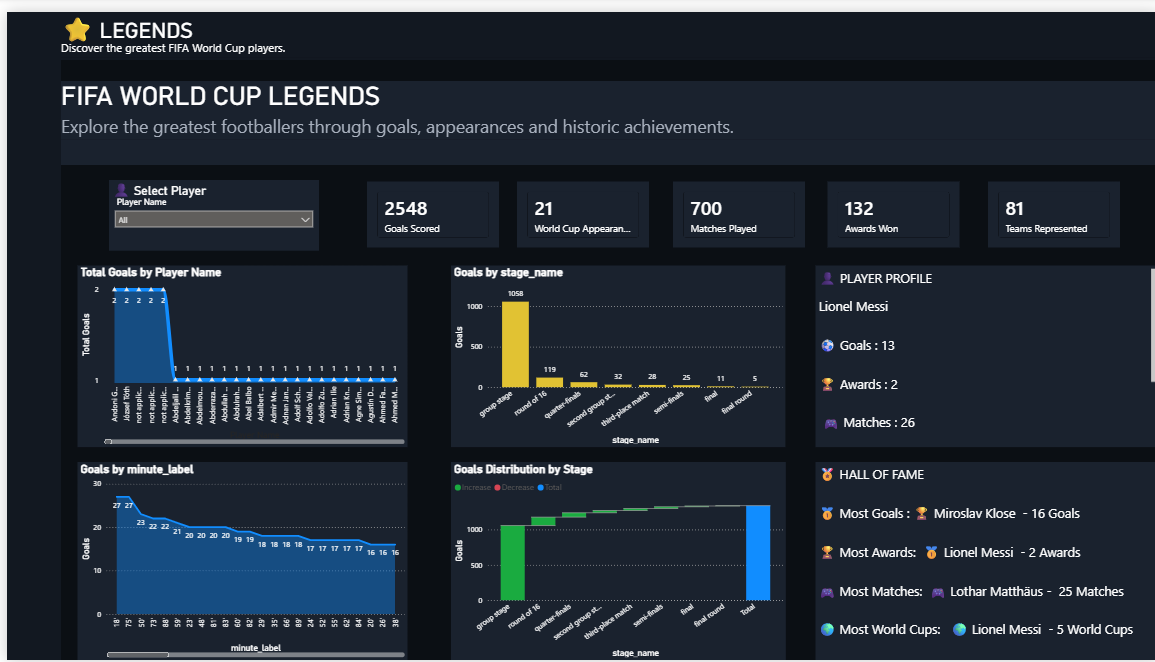

This screenshot's page, from the dashboard's own definition file:
{"tool":"powerbi","page":{"name":"LEGENDS","canvas":[1920,1080],"ordinal":3},"visuals":[{"type":"shape","box":[0,0,90,1080],"z":0},{"type":"shape","title":"⭐ LEGENDS","box":[90,0,1830,80],"z":1000},{"type":"shape","title":"FIFA WORLD CUP LEGENDS","box":[90,115,1830,140],"z":2000},{"type":"shape","box":[170,287.5,350,110],"z":3000},{"type":"slicer","title":"👤 Select Player","fields":{"Values":["Dim_players.Player Name"]},"box":[170,280,350,117.5],"z":4000},{"type":"cardVisual","fields":{"Data":["measures (2).World Cup Appearances"]},"box":[850,282.5,220,110],"z":5000},{"type":"cardVisual","fields":{"Data":["measures (2).Matches Played"]},"box":[1110,282.5,220,110],"z":6000},{"type":"cardVisual","fields":{"Data":["measures (2).Awards Won"]},"box":[1367.5,282.5,220,110],"z":7000},{"type":"cardVisual","fields":{"Data":["measures (2).Teams Represented"]},"box":[1635,282.5,220,110],"z":8000},{"type":"cardVisual","fields":{"Data":["measures (2).Goals Scored"]},"box":[600,282.5,220,110],"z":9000},{"type":"textbox","box":[1347.5,422.5,572.5,302.5],"z":10000},{"type":"textbox","box":[1347.5,750,572.5,330],"z":11000},{"type":"lineChart","fields":{"Y":["measures (2).Total Goals"],"Category":["Dim_players.Player Name"]},"box":[117.5,422.5,550,302.5],"z":12000},{"type":"columnChart","fields":{"Y":["measures (2).Goals"],"Category":["Fact_goals.stage_name"]},"box":[740,422.5,557.5,302.5],"z":13000},{"type":"areaChart","fields":{"Category":["Fact_goals.minute_label"],"Y":["measures (2).Goals"]},"box":[117.5,750,550,330],"z":14000},{"type":"waterfallChart","title":"Goals Distribution by Stage","fields":{"Category":["Fact_goals.stage_name"],"Y":["measures (2).Goals"]},"box":[740,750,558,330],"z":15000}]}

Visuals, with their boxes in screenshot pixels (x1, y1, x2, y2), scaled from the page's 1920x1080 canvas onto the 1155x662 screenshot:
shape: pyautogui.locateOnScreen(0, 0, 54, 661)
"⭐ LEGENDS" shape: pyautogui.locateOnScreen(54, 0, 1154, 49)
"FIFA WORLD CUP LEGENDS" shape: pyautogui.locateOnScreen(54, 70, 1154, 156)
shape: pyautogui.locateOnScreen(102, 176, 313, 244)
"👤 Select Player" slicer: pyautogui.locateOnScreen(102, 172, 313, 244)
cardVisual - measures (2).World Cup Appearances: pyautogui.locateOnScreen(511, 173, 644, 241)
cardVisual - measures (2).Matches Played: pyautogui.locateOnScreen(668, 173, 800, 241)
cardVisual - measures (2).Awards Won: pyautogui.locateOnScreen(823, 173, 955, 241)
cardVisual - measures (2).Teams Represented: pyautogui.locateOnScreen(984, 173, 1116, 241)
cardVisual - measures (2).Goals Scored: pyautogui.locateOnScreen(361, 173, 493, 241)
textbox: pyautogui.locateOnScreen(811, 259, 1154, 444)
textbox: pyautogui.locateOnScreen(811, 460, 1154, 661)
lineChart - measures (2).Total Goals x Dim_players.Player Name: pyautogui.locateOnScreen(71, 259, 402, 444)
columnChart - measures (2).Goals x Fact_goals.stage_name: pyautogui.locateOnScreen(445, 259, 781, 444)
areaChart - Fact_goals.minute_label x measures (2).Goals: pyautogui.locateOnScreen(71, 460, 402, 661)
"Goals Distribution by Stage" waterfallChart: pyautogui.locateOnScreen(445, 460, 781, 661)
